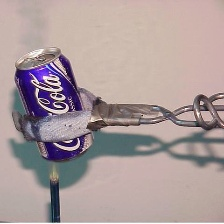can: (10, 45, 99, 165)
